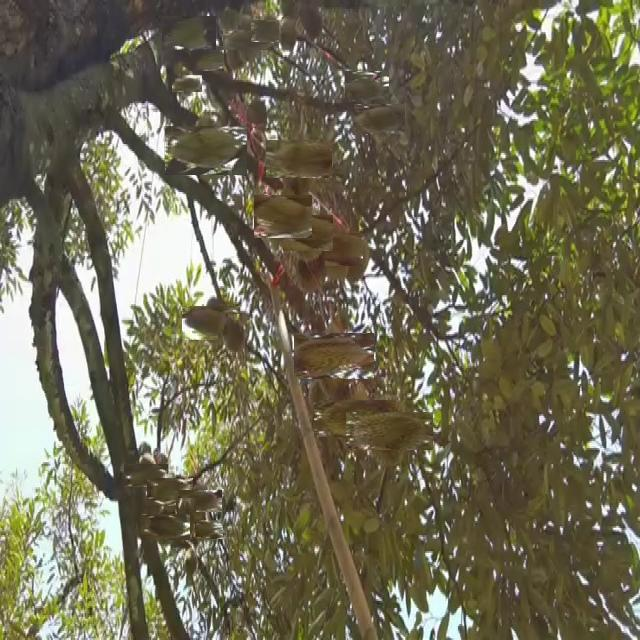durian: (173, 117, 239, 183), (302, 325, 366, 388), (358, 399, 421, 462), (325, 389, 384, 449), (273, 132, 326, 186), (258, 190, 308, 242), (188, 300, 235, 346), (311, 226, 357, 273), (166, 11, 212, 56), (287, 211, 330, 255), (359, 98, 400, 140), (296, 241, 325, 295), (349, 225, 370, 292), (147, 508, 184, 546), (348, 67, 385, 104), (152, 474, 188, 511), (231, 21, 267, 58), (218, 314, 247, 356), (183, 485, 217, 518), (129, 459, 162, 492), (194, 42, 227, 75), (299, 5, 326, 43), (224, 34, 250, 71), (254, 16, 285, 47), (186, 514, 218, 544), (176, 498, 196, 546), (280, 17, 300, 52), (175, 71, 199, 95)
